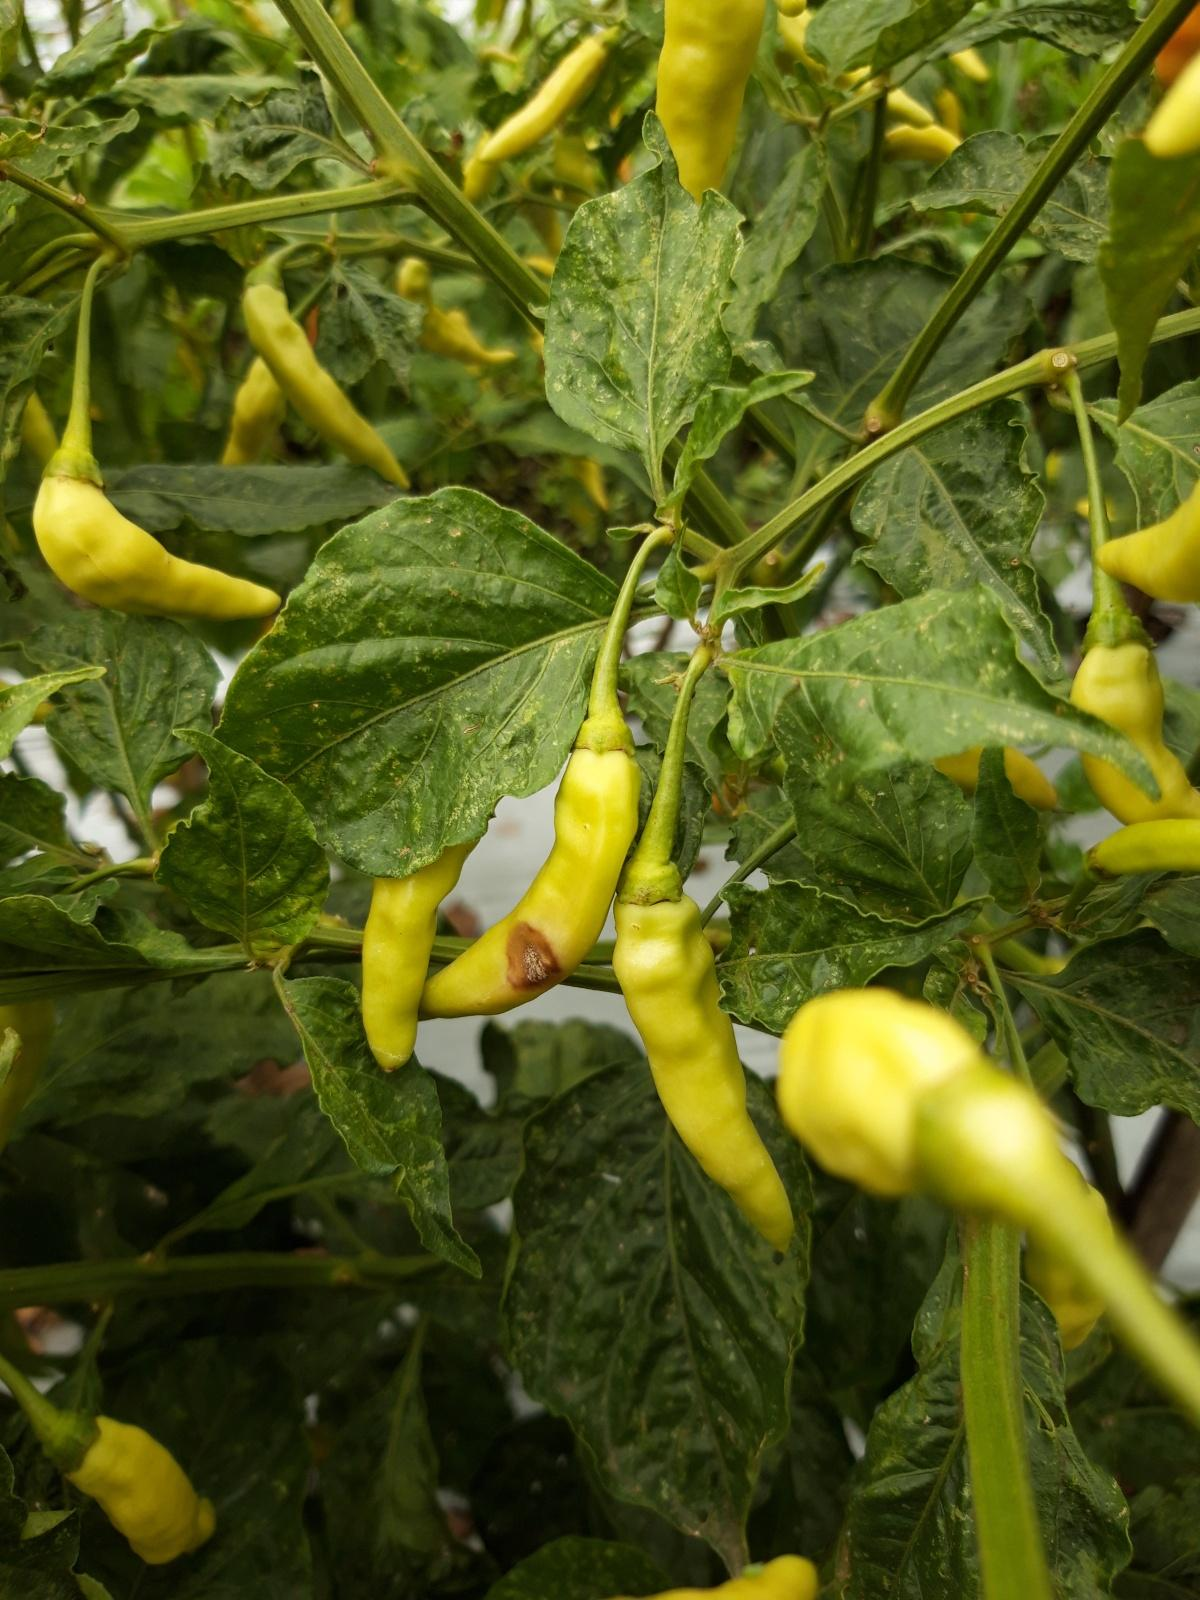cabai_normal: (611, 864, 795, 1255), (773, 991, 1041, 1208), (32, 451, 280, 621), (242, 270, 410, 488), (1068, 611, 1200, 824), (362, 839, 480, 1075), (40, 1410, 216, 1563), (653, 0, 766, 208)
lalat_buah: (418, 712, 642, 1020)
